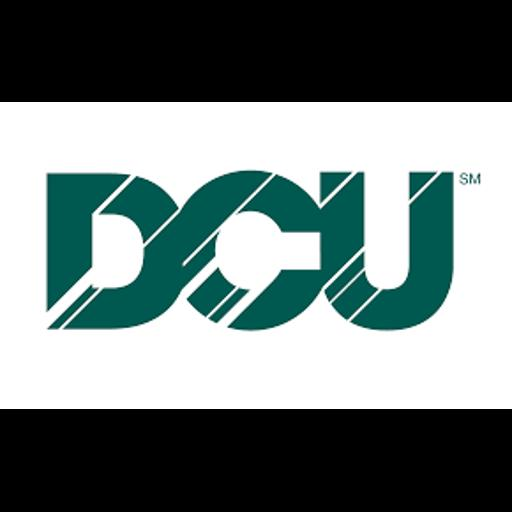Digital Federal Credit Union: (0, 102, 512, 409)
